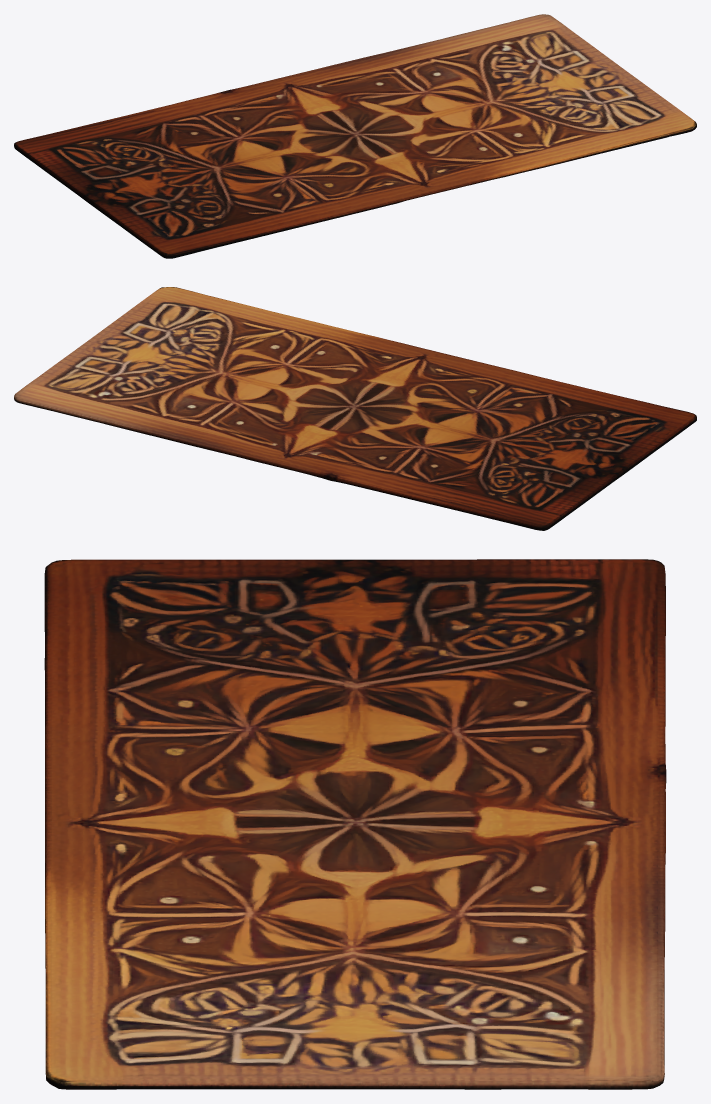
File: wooden-ruler-art-deco.jpeg.glb
The picture shows the model from 3 angles, top to bottom: view 1: azimuth 30°, elevation 25°; view 2: azimuth 150°, elevation 25°; view 3: azimuth 270°, elevation 25°; orthographic projection. The views are drawn at different scales.
Parts seen in each view (by area): view 1: world; view 2: world; view 3: world.
Part boxes in pixels (x1,y1,x2,y2): world: (14, 14, 696, 258); world: (14, 287, 696, 530); world: (44, 559, 666, 1089).
Bounding box in the file's own units: 1 × 0.00983 × 0.5036.
1 material, 1 textured.
